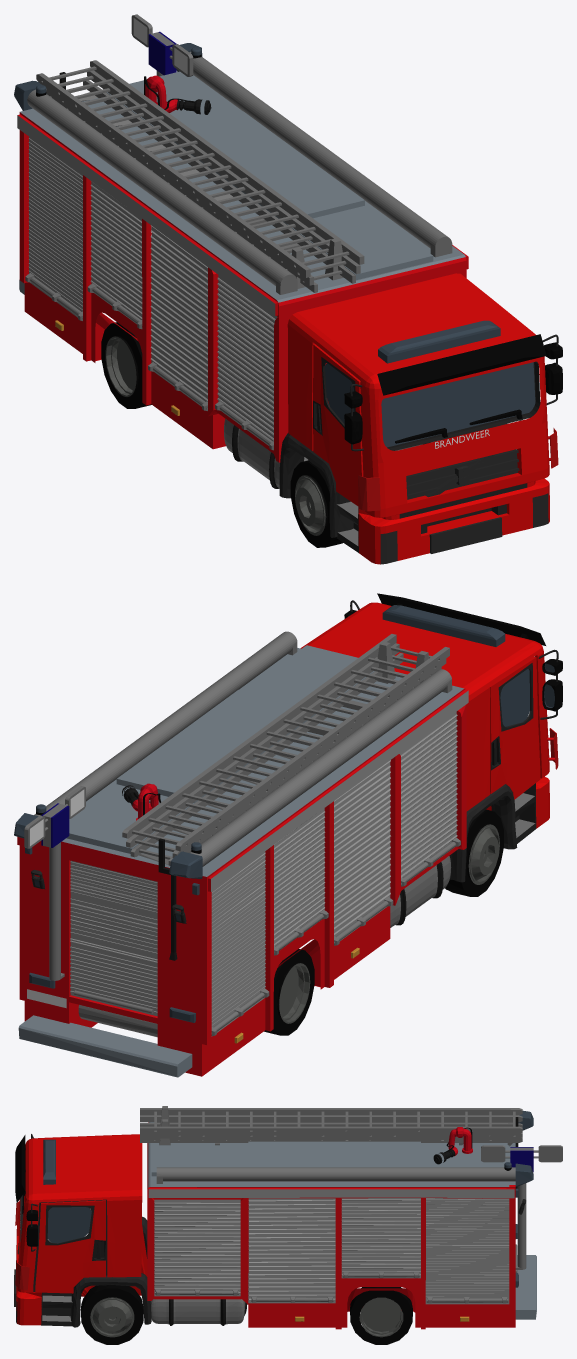
The model's file is brandweer_lod.glb.
The picture shows the model from 3 angles, top to bottom: view 1: azimuth 30°, elevation 25°; view 2: azimuth 150°, elevation 25°; view 3: azimuth 270°, elevation 25°; orthographic projection. The views are drawn at different scales.
Parts seen in each view (by area): view 1: Object_4; view 2: Object_4; view 3: Object_4.
Part boxes in pixels (x1,y1,x2,y2): Object_4: (14, 14, 562, 564); Object_4: (14, 593, 562, 1077); Object_4: (14, 1106, 562, 1344).
Size of the model in its own units: 2.4 by 2.9 by 7.6.
